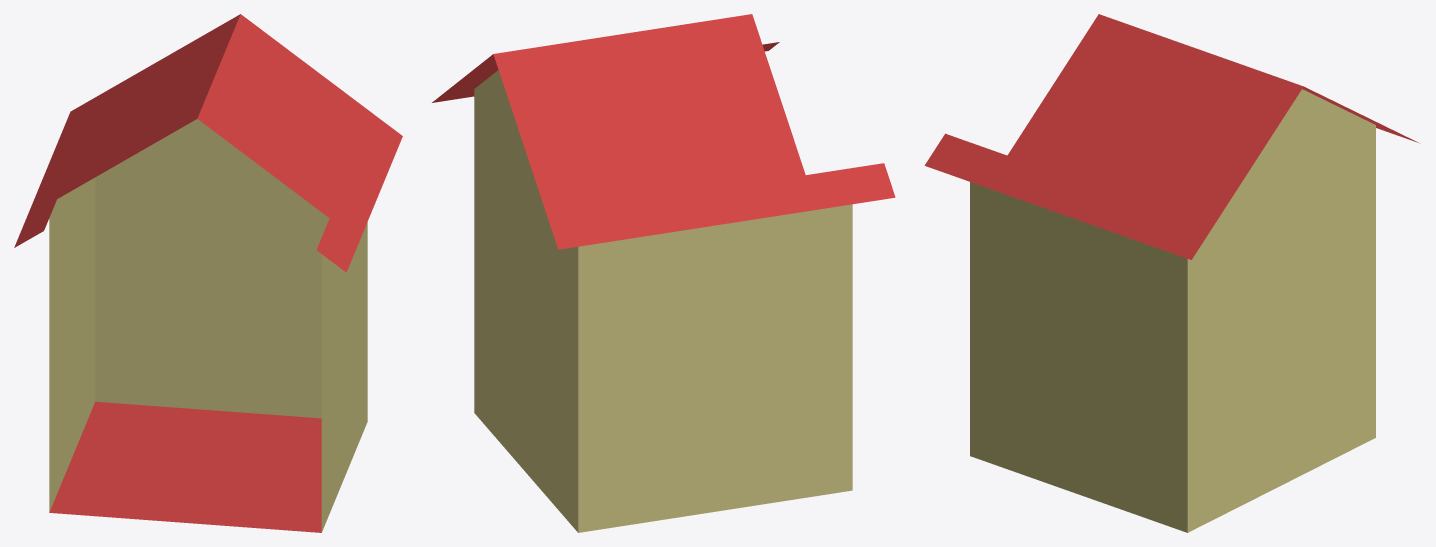
3 renders of one model, left to right at view 1: azimuth 30°, elevation 25°; view 2: azimuth 150°, elevation 25°; view 3: azimuth 270°, elevation 25°, orthographic. The views are drawn at different scales.
Bounding box in the file's own units: 11.53 × 11.5 × 10.45.
